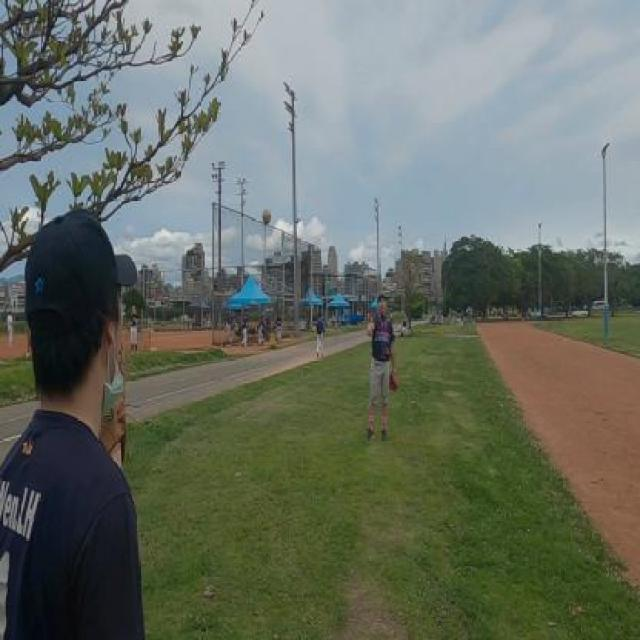baseball: (262, 208, 272, 225)
